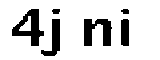4: (9, 4, 46, 48)
i: (118, 7, 136, 52)
j: (44, 6, 68, 60)
n: (80, 14, 114, 51)
